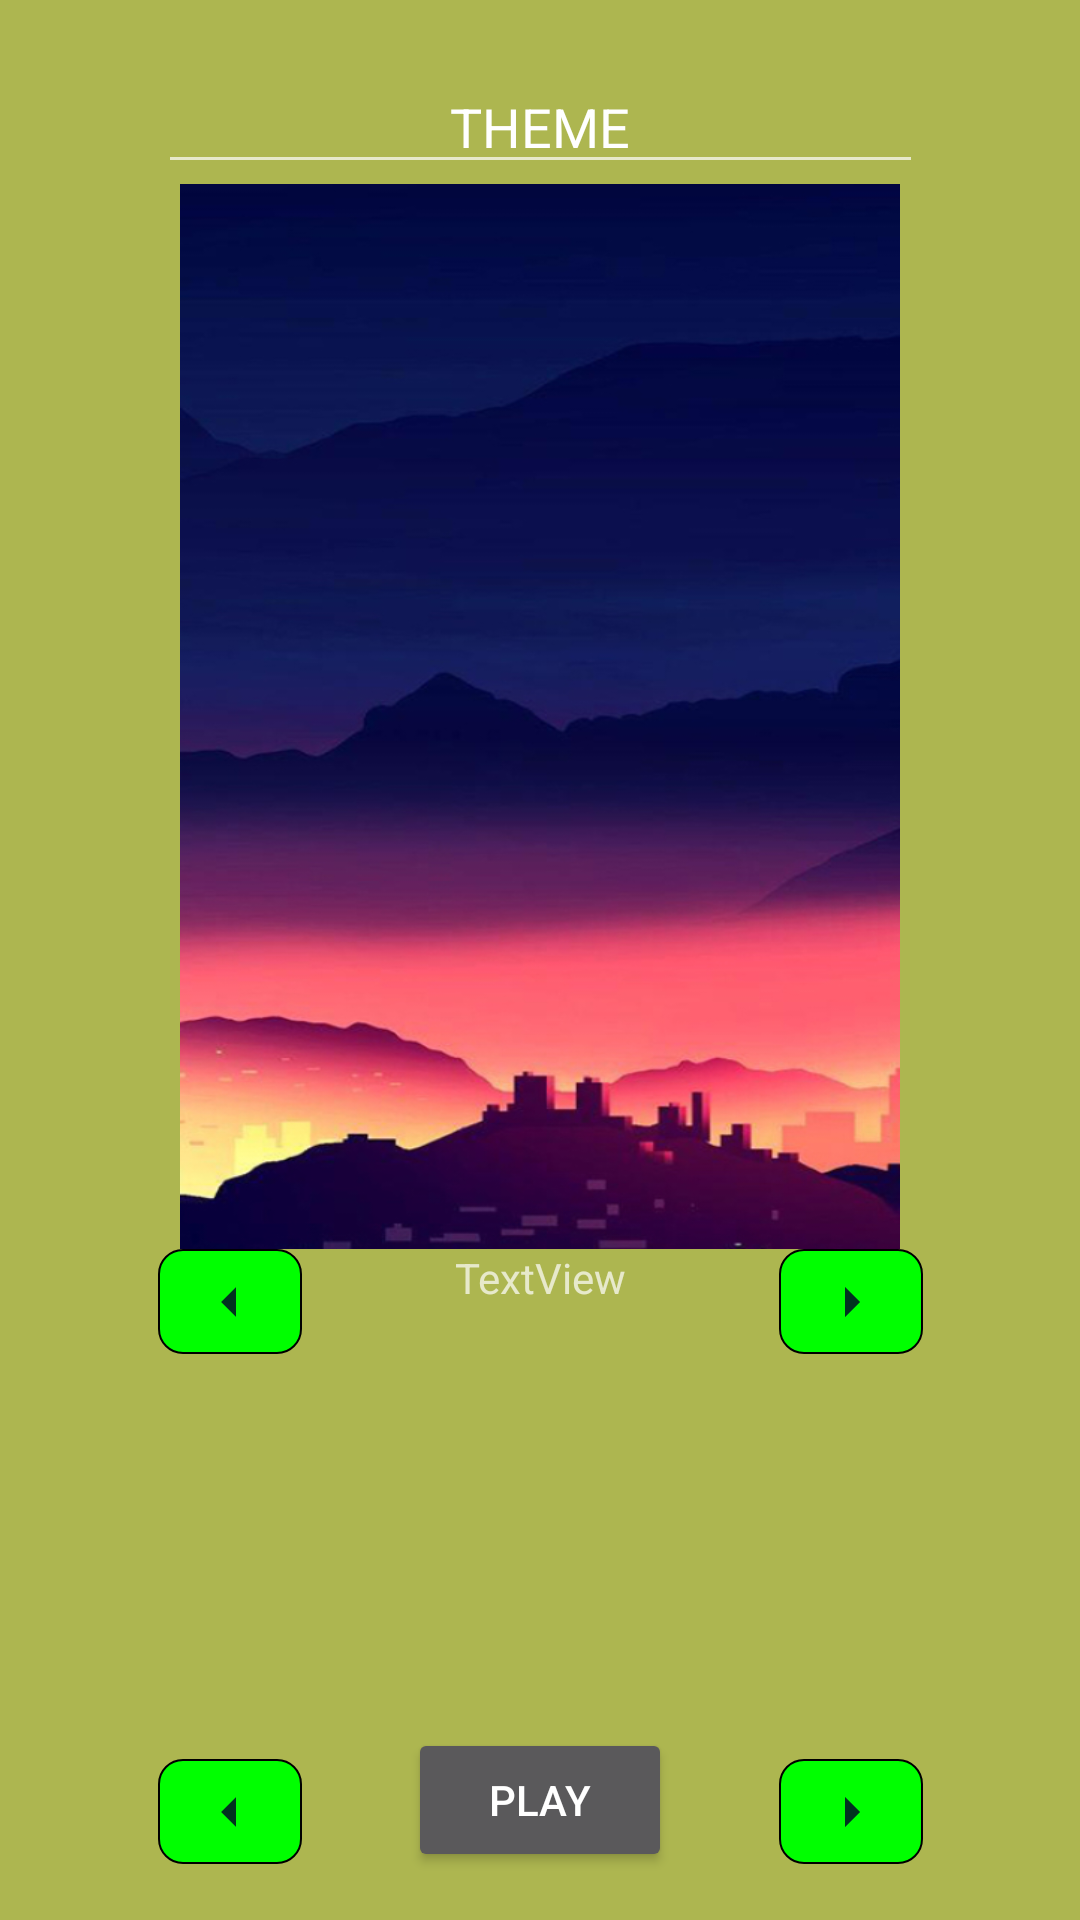

Screen size 1080*1920. Icon name, then its center in pixels as (x,y):
arrow left: (230,1301), (230,1811)
arrow right: (851,1301), (851,1811)
